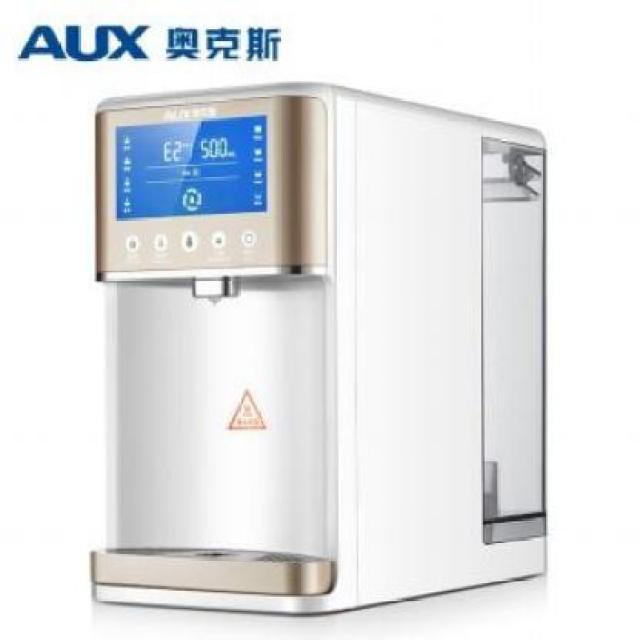cooler: (86, 75, 554, 620)
